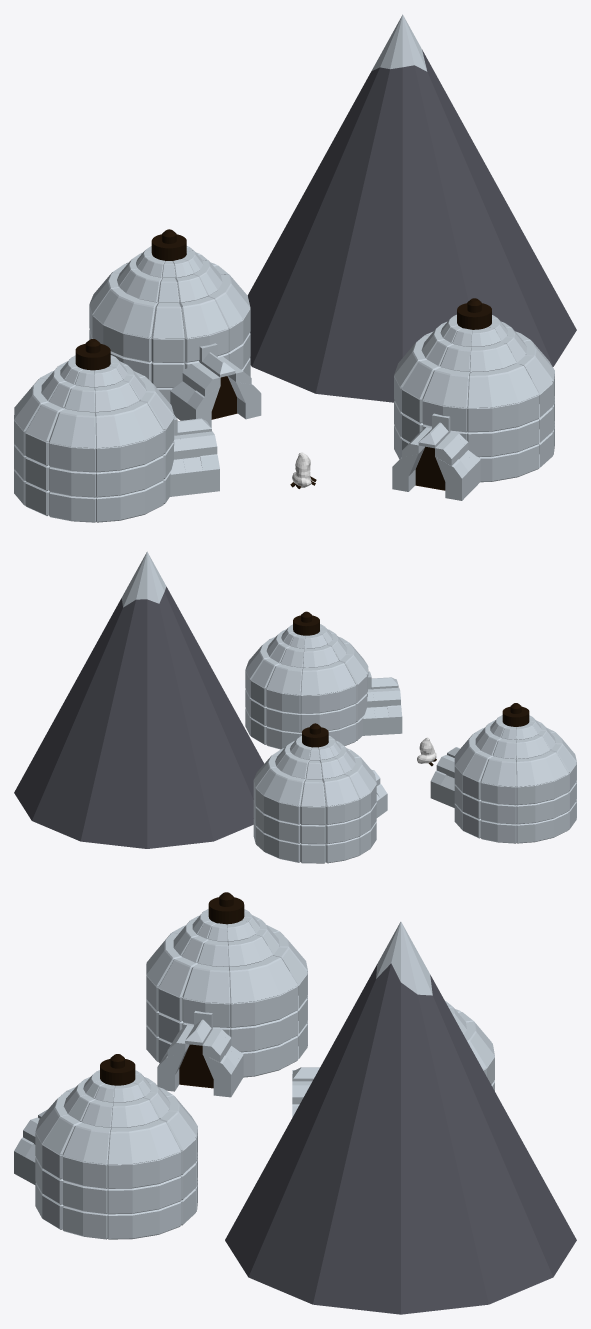
File: mountlvl2.fbx
The picture shows the model from 3 angles, top to bottom: view 1: azimuth 30°, elevation 25°; view 2: azimuth 150°, elevation 25°; view 3: azimuth 270°, elevation 25°; orthographic projection. The views are drawn at different scales.
Visible parts, largest first — view 1: Cone, Cylinder.002, Cylinder.001, Cylinder, Cube.007, Cube.025, Cube.031, Cone.001, Plane.001, Plane; view 2: Cone, Cylinder, Cylinder.002, Cylinder.001, Cube.025, Cone.001, Cube.031; view 3: Cone, Cylinder.001, Cylinder.002, Cube.031, Cone.001, Cylinder, Cube.025, Plane.002, Cube.007.
Boxes of the visible parts, bbox=[...] form: Cone: bbox=[247, 49, 576, 402]; Cylinder.002: bbox=[14, 339, 174, 522]; Cylinder.001: bbox=[394, 298, 554, 482]; Cylinder: bbox=[89, 229, 250, 403]; Cube.007: bbox=[170, 343, 261, 427]; Cube.025: bbox=[392, 413, 480, 500]; Cube.031: bbox=[170, 414, 219, 496]; Cone.001: bbox=[371, 14, 427, 71]; Plane.001: bbox=[415, 446, 445, 490]; Plane: bbox=[211, 376, 237, 419]; Cone: bbox=[14, 586, 264, 848]; Cylinder: bbox=[253, 723, 376, 863]; Cylinder.002: bbox=[454, 703, 576, 843]; Cylinder.001: bbox=[245, 611, 368, 749]; Cube.025: bbox=[363, 671, 402, 735]; Cone.001: bbox=[121, 551, 166, 607]; Cube.031: bbox=[430, 747, 460, 807]; Cone: bbox=[225, 963, 576, 1314]; Cylinder.001: bbox=[35, 1054, 197, 1239]; Cylinder.002: bbox=[146, 892, 307, 1077]; Cube.031: bbox=[157, 1011, 243, 1097]; Cone.001: bbox=[376, 921, 432, 995]; Cylinder: bbox=[445, 1001, 494, 1090]; Cube.025: bbox=[14, 1109, 47, 1184]; Plane.002: bbox=[179, 1044, 213, 1088]; Cube.007: bbox=[292, 1067, 319, 1117].
Bounding box in the file's own units: 5047 × 2491 × 3952.
